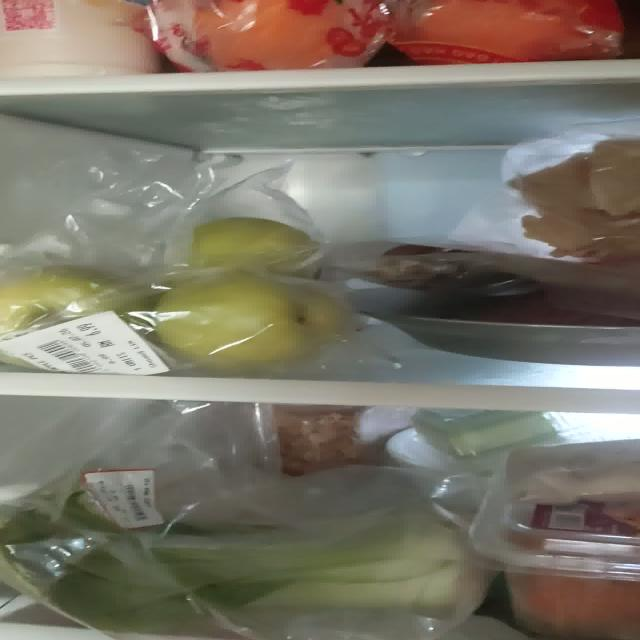apple: (0, 216, 352, 374)
orange: (154, 0, 622, 74)
pakchoy: (0, 496, 484, 628)
